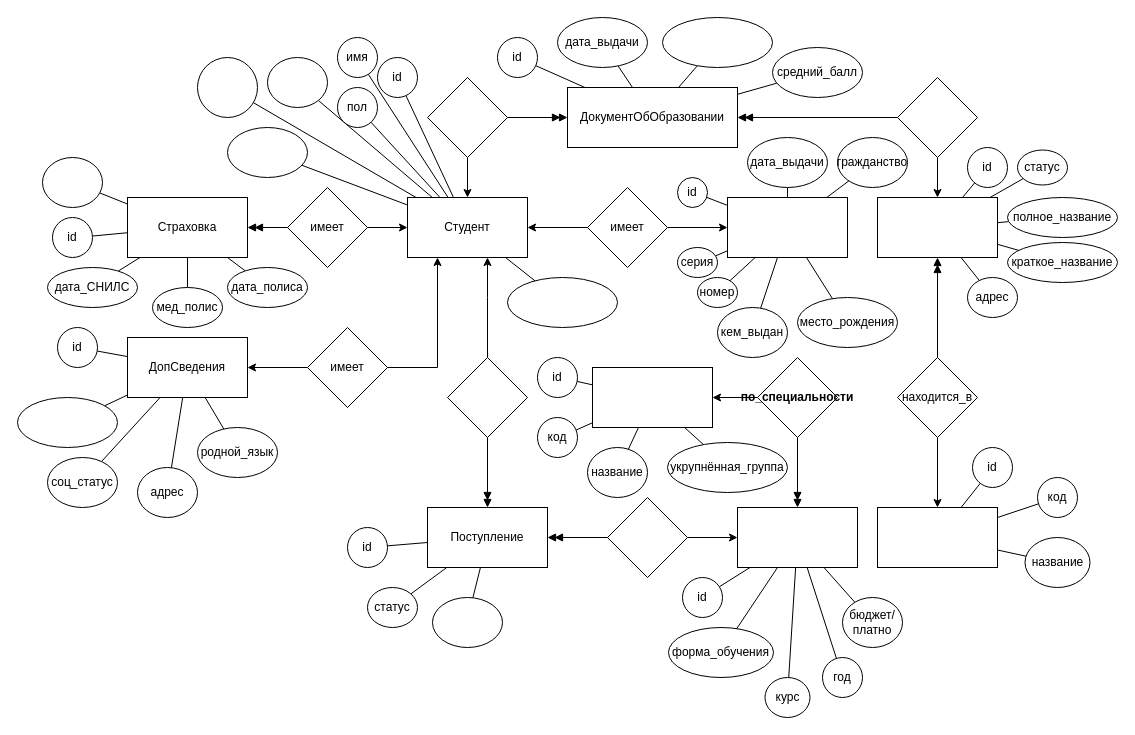
Some shapes in this 1135 by 735 pixel diagram are drawn without their labels. Each missing label, with the box of its shape:
в_рамках: (606, 496, 688, 578)
выдан: (896, 76, 978, 158)
дата_рождения: (506, 276, 618, 328)
национальность: (16, 396, 118, 448)
отчество: (266, 56, 328, 108)
Паспорт: (726, 196, 848, 258)
подал: (446, 356, 528, 438)
получил: (426, 76, 508, 158)
ПриёмнаяКампания: (736, 506, 858, 568)
рег_номер: (432, 596, 502, 648)
Регион: (876, 506, 998, 568)
СНИЛС: (42, 156, 102, 208)
Специальность: (592, 366, 712, 428)
телефон: (196, 56, 258, 118)
тип_образования: (662, 16, 772, 68)
УчебноеЗаведение: (876, 196, 998, 258)
фамилия: (226, 126, 308, 178)
